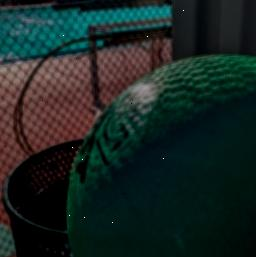algae: (66, 52, 256, 257)
